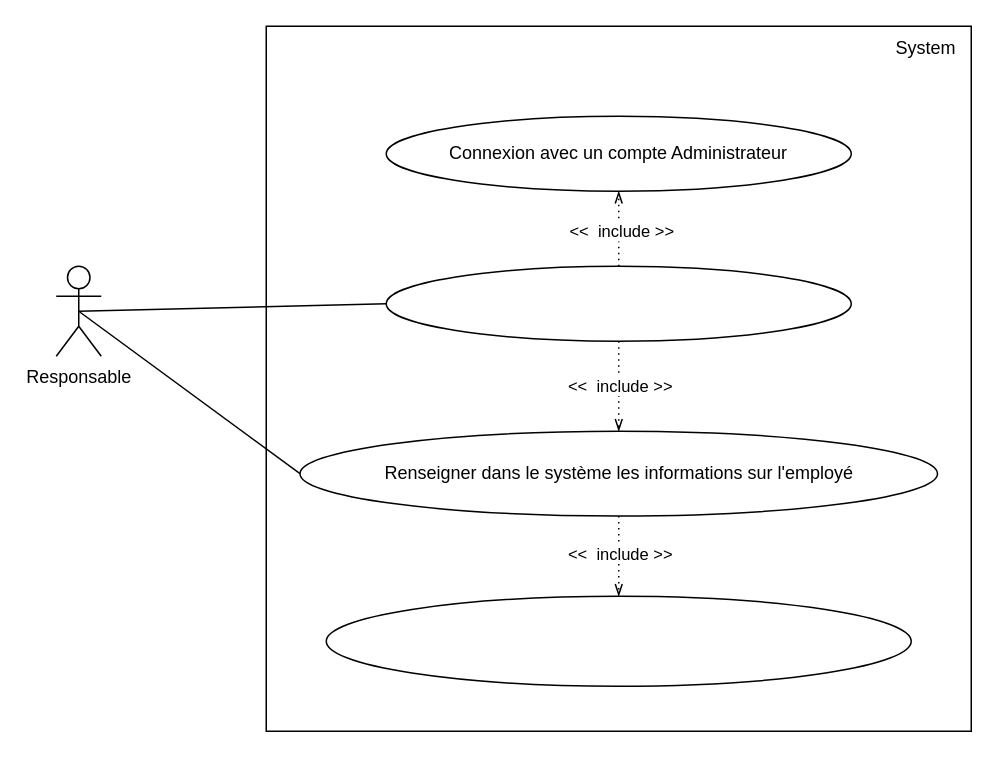
This 998x758 diagram has some shape labels left out. Here are the shapes that lost their labels. From the top down, the centre of each, then its label:
pixel 618 303: Créer un compte employé
pixel 618 640: Informer l'employé par e-mail de la création de son compte
